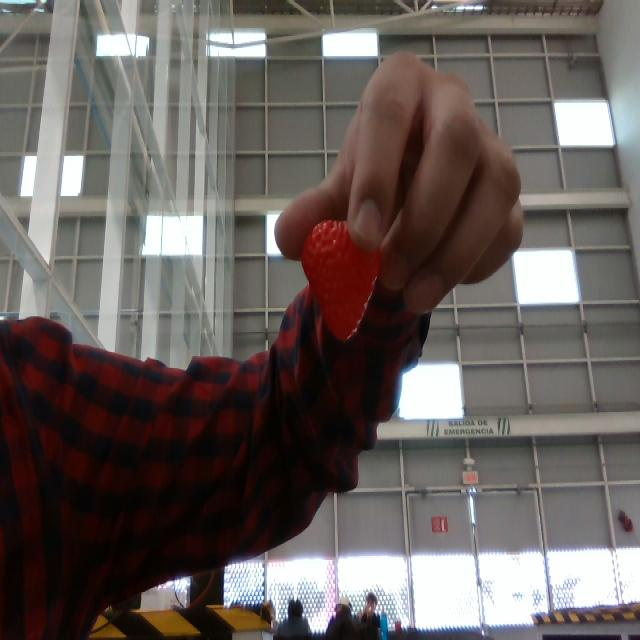chica_roja: (303, 220, 379, 340)
